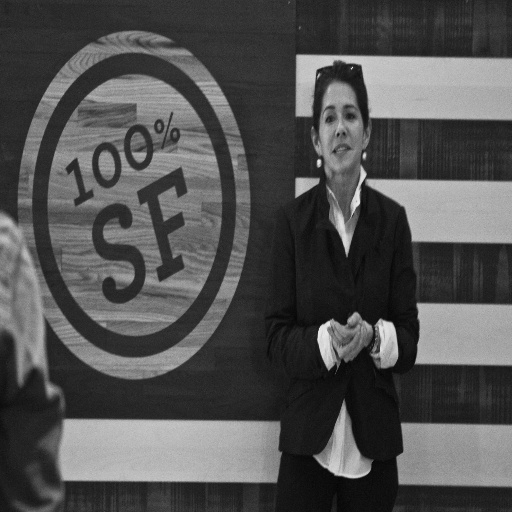hand: (331, 321, 369, 364), (327, 308, 371, 344)
